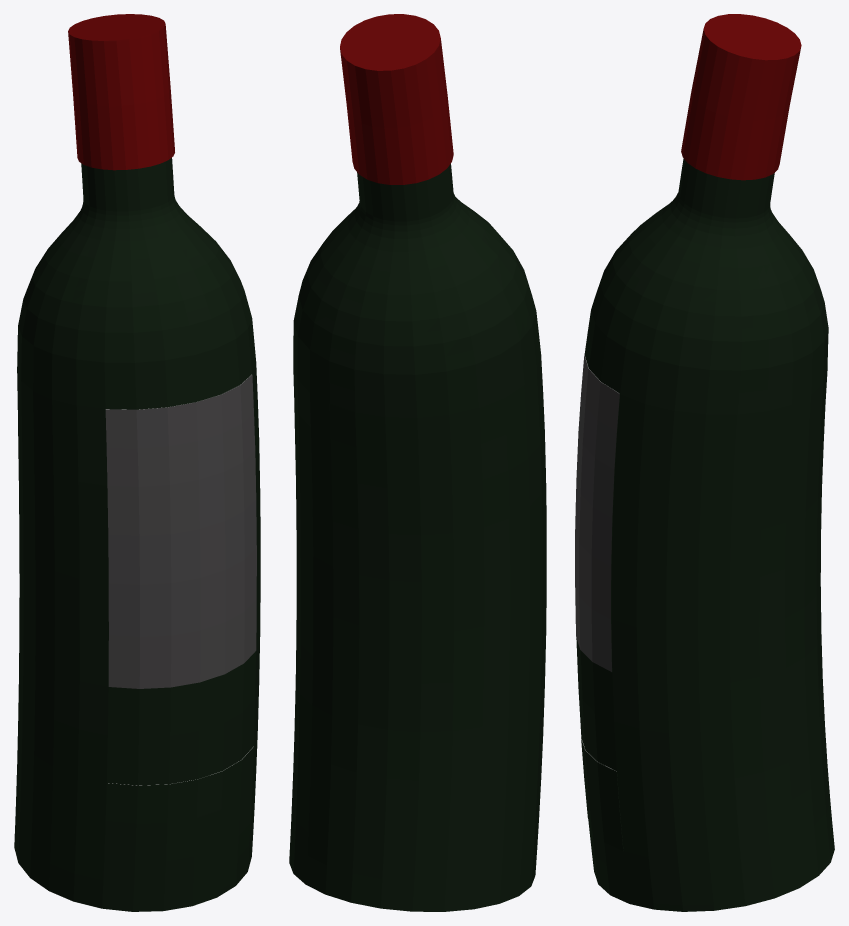
Rendered from bend_low_1.obj.
3 views of the same model, side by side, from view 1: azimuth 30°, elevation 25°; view 2: azimuth 150°, elevation 25°; view 3: azimuth 270°, elevation 25° (orthographic). The views are drawn at different scales.
Parts seen in each view (by area): view 1: model; view 2: model; view 3: model.
Boxes of the visible parts, bbox=[...] form: model: bbox=[14, 14, 260, 911]; model: bbox=[289, 14, 546, 911]; model: bbox=[575, 14, 834, 911].
Bounding box in the file's own units: 0.0672 × 0.2547 × 0.071.
1 material, 1 textured.
